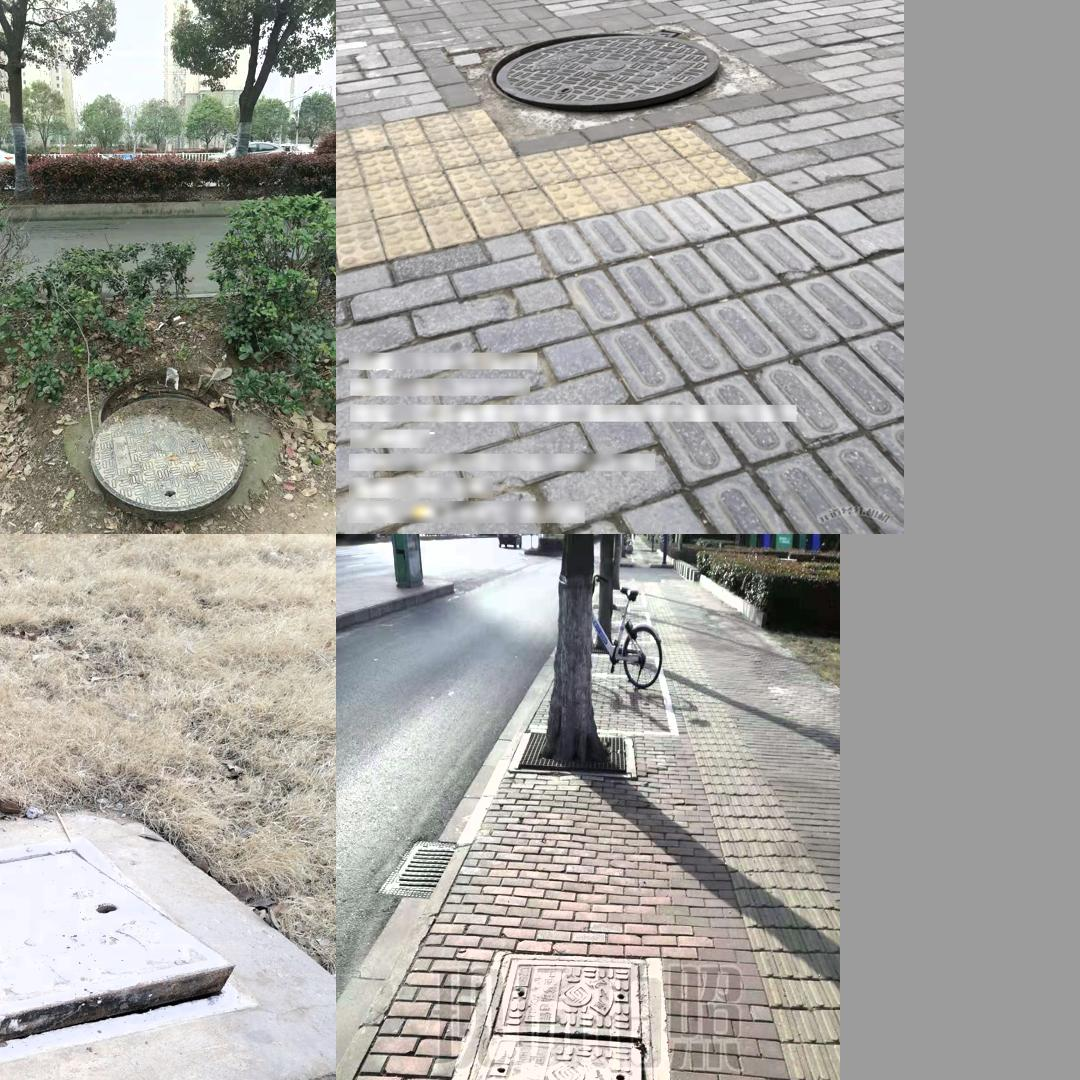uncovered: (0, 838, 266, 1080), (451, 956, 661, 1080), (87, 374, 247, 515), (493, 31, 723, 111)
